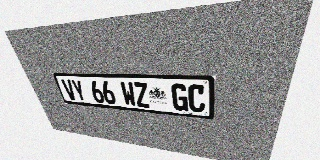6: (88, 80, 106, 104), (99, 81, 117, 105)
C: (188, 84, 205, 113)
G: (171, 83, 188, 111)
V: (61, 79, 78, 101)
W: (120, 81, 137, 107)
Y: (70, 80, 87, 102)
Z: (133, 82, 150, 108)
